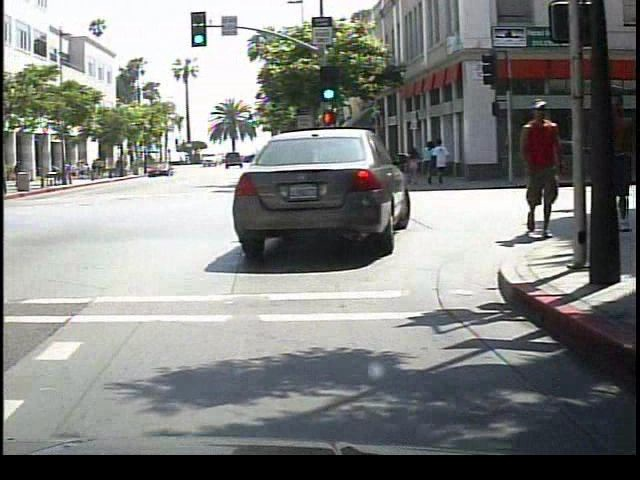person: (508, 93, 567, 247), (9, 157, 27, 189)
